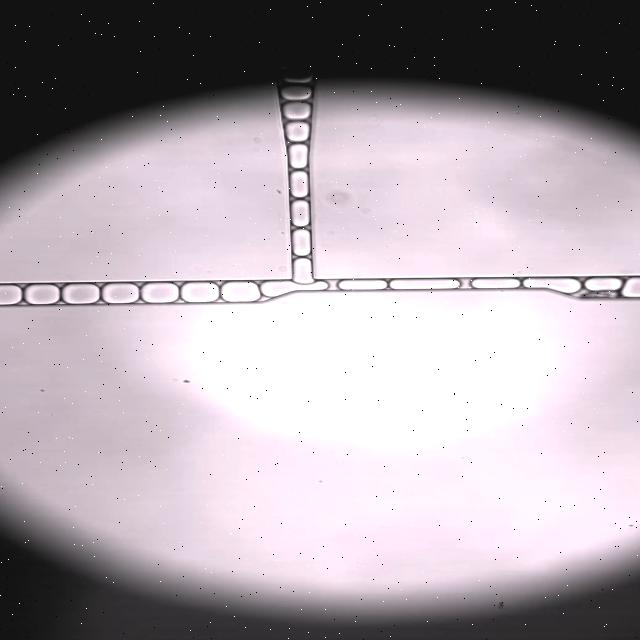L: (282, 102, 310, 120), (293, 258, 313, 283), (292, 230, 311, 256), (285, 122, 309, 142), (288, 144, 308, 168), (472, 278, 520, 288), (339, 280, 386, 290), (290, 171, 308, 197), (585, 278, 621, 291), (292, 200, 309, 227), (281, 86, 311, 100), (283, 75, 312, 84)
S: (261, 281, 326, 297), (524, 278, 581, 294), (62, 283, 100, 304), (221, 282, 260, 302), (102, 283, 139, 304), (181, 282, 218, 302), (141, 283, 178, 303), (24, 284, 59, 304), (391, 279, 459, 289), (0, 285, 22, 305), (621, 278, 640, 297)
